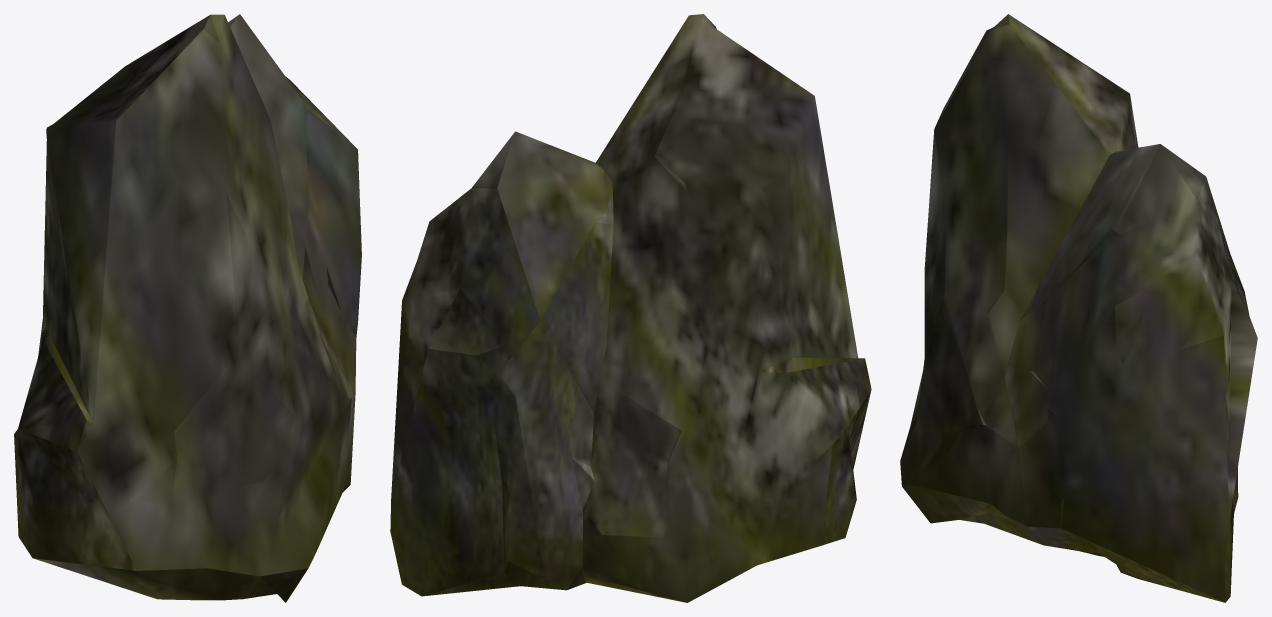
Rendered from shore-cliff-b.lod1.glb.
The picture shows the model from 3 angles, left to right: view 1: azimuth 30°, elevation 25°; view 2: azimuth 150°, elevation 25°; view 3: azimuth 270°, elevation 25°; orthographic projection. The views are drawn at different scales.
Visible parts, largest first — view 1: cliff_03_lp.003_cliff_03_0; view 2: cliff_03_lp.003_cliff_03_0; view 3: cliff_03_lp.003_cliff_03_0.
Part boxes in pixels (box(x1,y1,x2,y2)): cliff_03_lp.003_cliff_03_0: box(14, 14, 361, 602); cliff_03_lp.003_cliff_03_0: box(390, 14, 871, 602); cliff_03_lp.003_cliff_03_0: box(900, 14, 1257, 602).
Bounding box in the file's own units: 9.24 × 13.32 × 8.37.
1 material, 1 textured.
